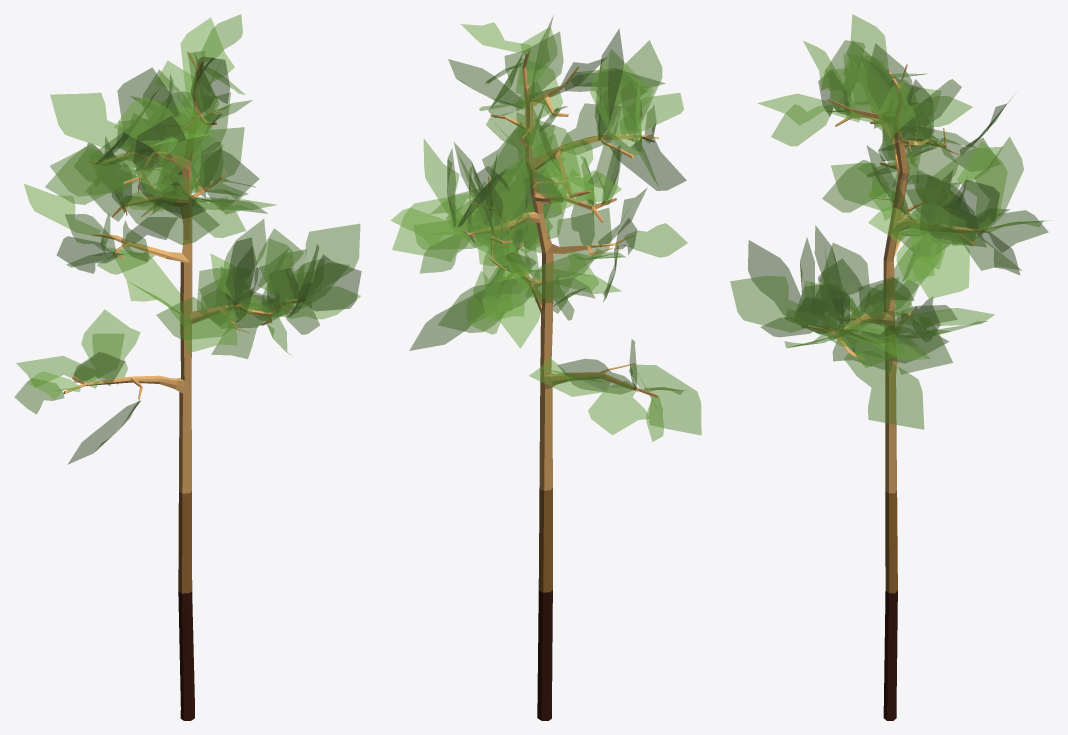
The model's file is pine_best.fbx.
The picture shows the model from 3 angles, left to right: view 1: azimuth 30°, elevation 25°; view 2: azimuth 150°, elevation 25°; view 3: azimuth 270°, elevation 25°; orthographic projection.
Visible parts, largest first — view 1: Cube; view 2: Cube; view 3: Cube.
Boxes of the visible parts, x1=… form: Cube: x1=14, y1=14, x2=361, y2=720; Cube: x1=391, y1=15, x2=701, y2=720; Cube: x1=730, y1=14, x2=1052, y2=720.
Bounding box in the file's own units: 5075 × 11708 × 5070.
